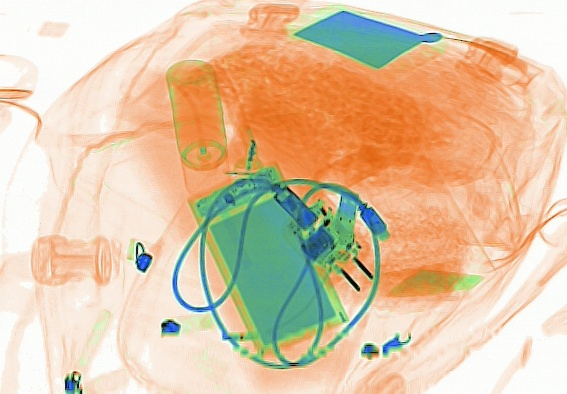pressure: (162, 57, 230, 197)
